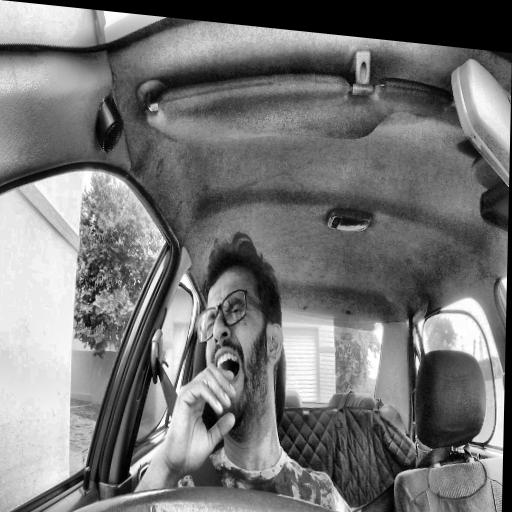drowsy: (194, 228, 286, 442)
